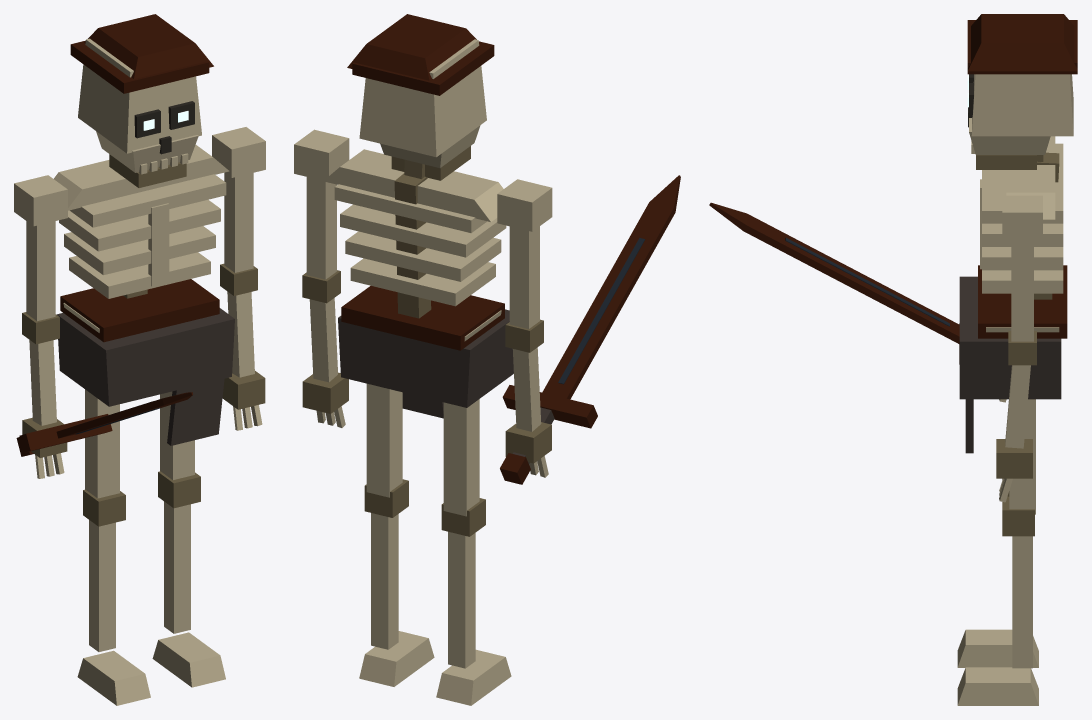
The model's file is OssadaErrante.fbx.
3 renders of one model, left to right at view 1: azimuth 30°, elevation 25°; view 2: azimuth 150°, elevation 25°; view 3: azimuth 270°, elevation 25°, orthographic. The views are drawn at different scales.
Parts seen in each view (by area): view 1: Body, Head, ArmR, LegR, ArmL, LegL; view 2: Body, ArmR, Head, LegR, LegL, ArmL; view 3: Body, Head, ArmL, LegL, ArmR, LegR.
Boxes of the visible parts, box(x1,y1,x2,y2) form: Body: box(54, 144, 234, 445); Head: box(70, 14, 213, 187); ArmR: box(14, 175, 192, 478); LegR: box(77, 389, 150, 705); ArmL: box(212, 127, 265, 430); LegL: box(152, 391, 225, 687); Body: box(323, 149, 513, 418); ArmR: box(497, 175, 680, 484); Head: box(347, 14, 494, 180); LegR: box(436, 399, 511, 705); LegL: box(359, 383, 434, 686); ArmL: box(294, 129, 349, 427); Body: box(959, 136, 1067, 453); Head: box(967, 14, 1077, 169); ArmL: box(996, 195, 1042, 502); LegL: box(957, 399, 1038, 705); ArmR: box(709, 202, 1006, 402); LegR: box(957, 478, 1038, 667).
Bounding box in the file's own units: 0.7875 × 1.86 × 0.9495.
